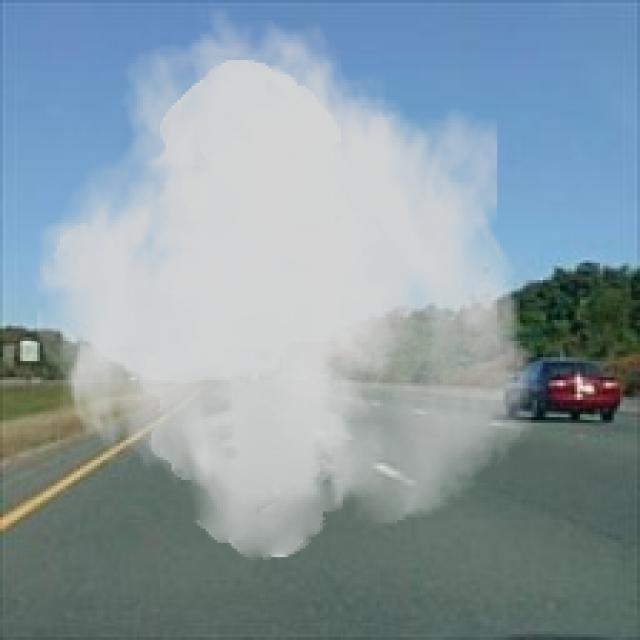smoke: (28, 3, 543, 560)
